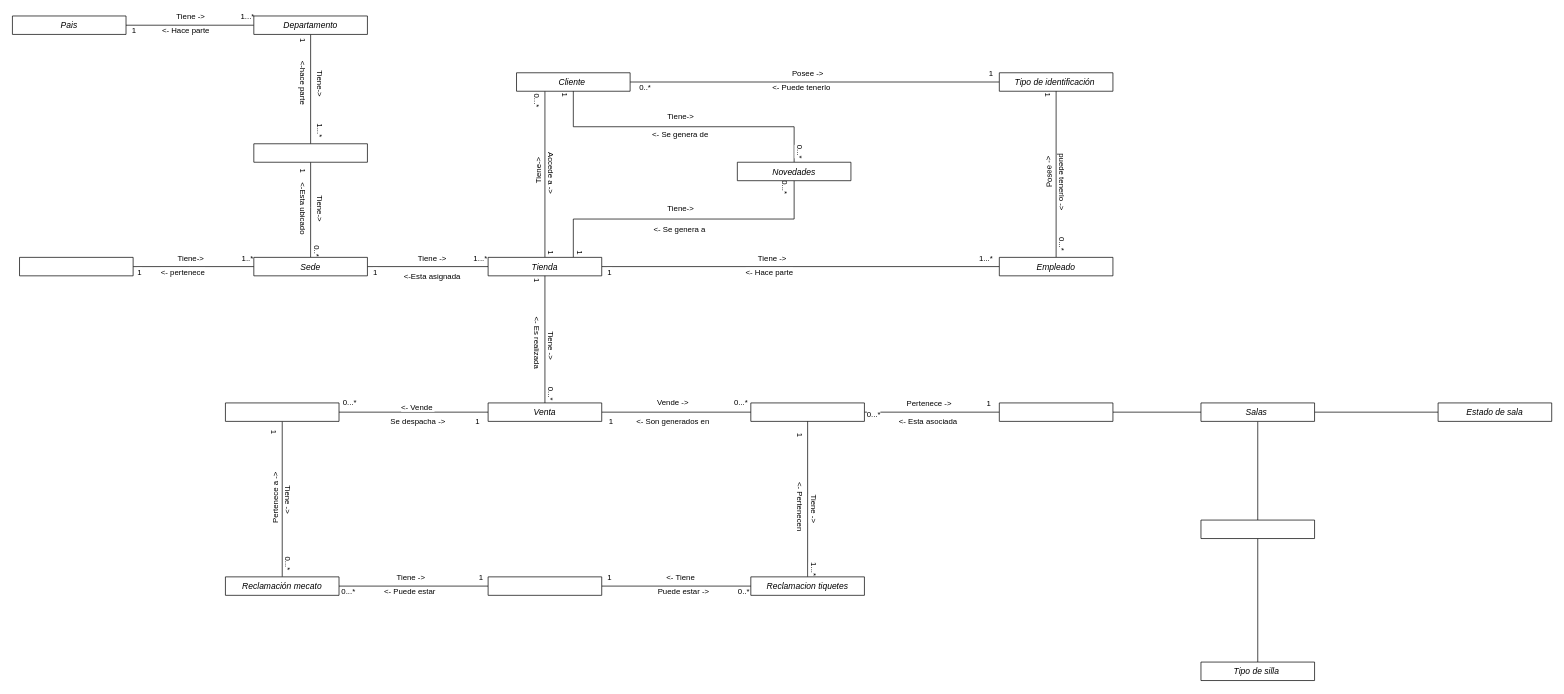
This 1564x694 diagram has some shape labels left out. The shapes that lost their labels are listed below. From the top down, each one's box as (x1, y1, x2, y2) in pixels, then its label:
(253, 143, 367, 162): Ciudad
(19, 257, 133, 276): Cine
(225, 402, 339, 421): Mecato
(750, 402, 864, 421): Tiquete
(999, 402, 1113, 421): Pelicula
(1200, 519, 1315, 539): Sillas
(487, 576, 602, 595): Estado reclamacion
